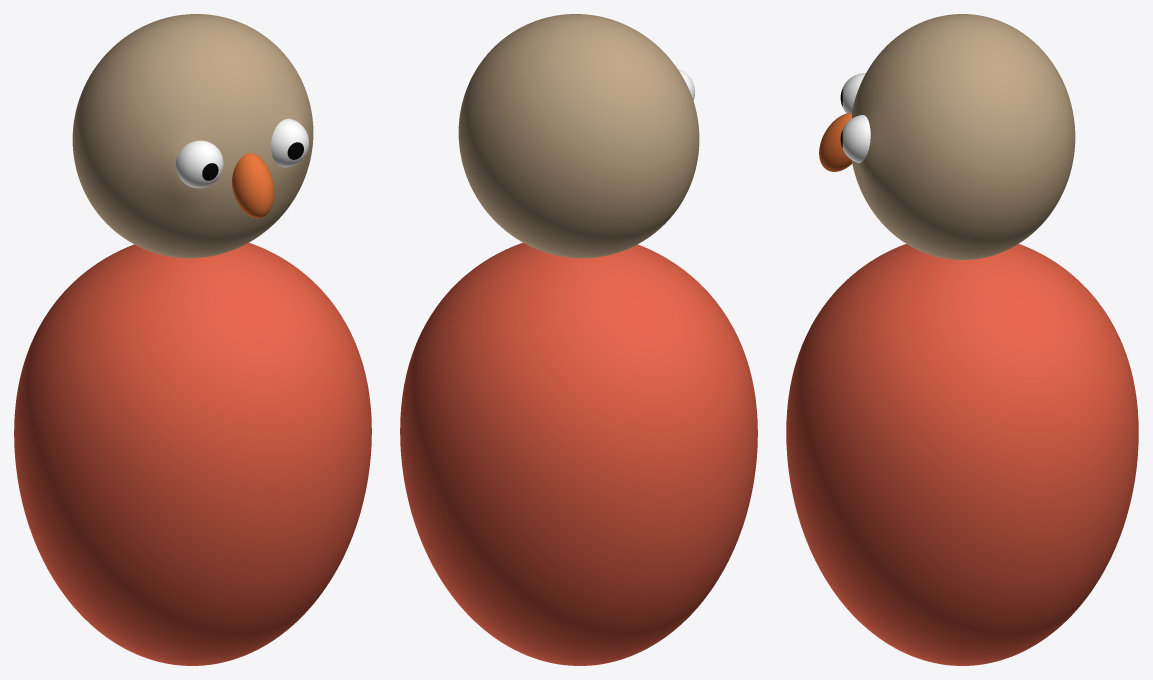
The model's file is body.fbx.
3 renders of one model, left to right at view 1: azimuth 30°, elevation 25°; view 2: azimuth 150°, elevation 25°; view 3: azimuth 270°, elevation 25°, orthographic.
Parts seen in each view (by area): view 1: Sphere.004; view 2: Sphere.004; view 3: Sphere.004.
Boxes of the visible parts, x1,y1,x2,y2 form: Sphere.004: (14,14,371,665); Sphere.004: (400,14,757,665); Sphere.004: (786,14,1138,665).
Bounding box in the file's own units: 146 × 282 × 143.
